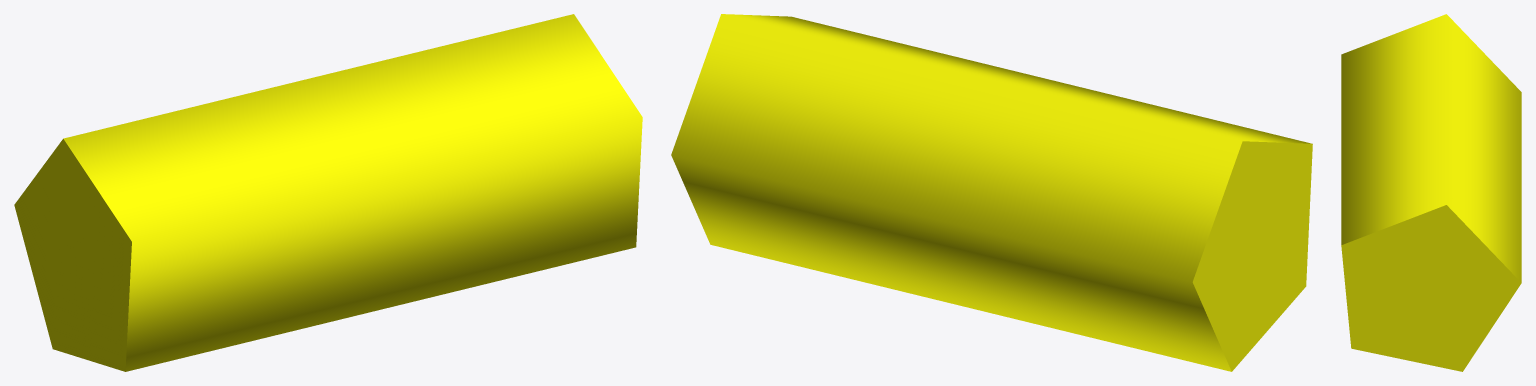
File: shell_shotgun.glb
3 views of the same model, side by side, from view 1: azimuth 30°, elevation 25°; view 2: azimuth 150°, elevation 25°; view 3: azimuth 270°, elevation 25° (orthographic). The views are drawn at different scales.
Parts seen in each view (by area): view 1: shell_shotgun; view 2: shell_shotgun; view 3: shell_shotgun.
Part boxes in pixels (bbox=[...]): shell_shotgun: bbox=[14, 14, 642, 371]; shell_shotgun: bbox=[671, 14, 1312, 371]; shell_shotgun: bbox=[1341, 14, 1521, 371].
Bounding box in the file's own units: 0.2218 × 0.0906 × 0.0886.
Materials: 1 (1 with a texture image).
